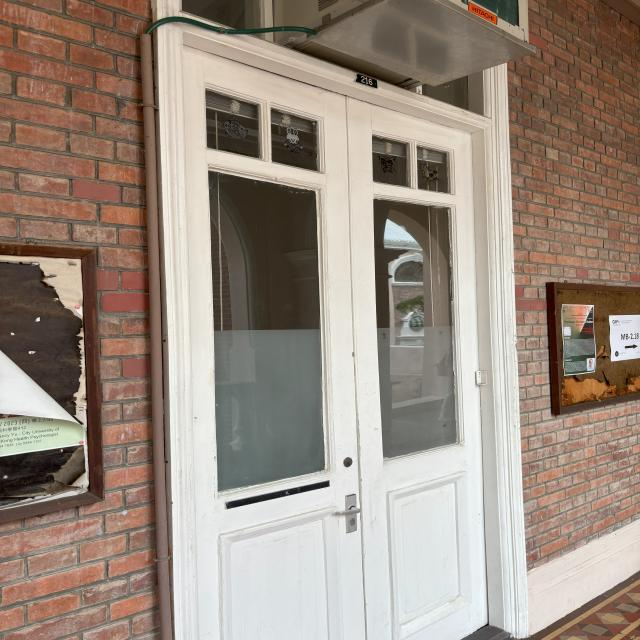MB216_roomNumber: (350, 70, 381, 92)
